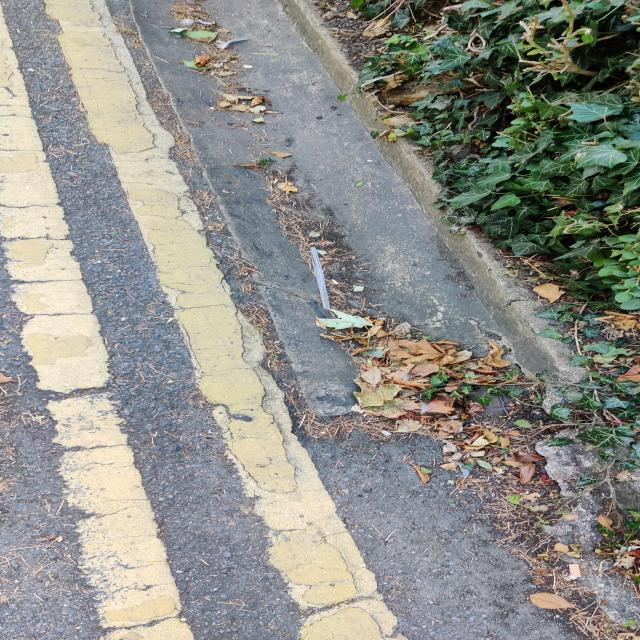litter: (307, 246, 335, 310)
